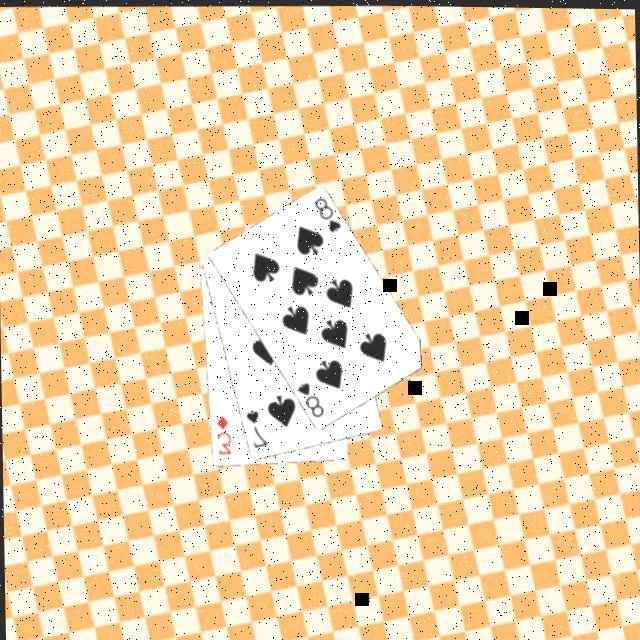3D: (212, 409, 233, 454)
7S: (241, 404, 270, 448)
8S: (293, 375, 326, 418), (310, 190, 343, 233)
